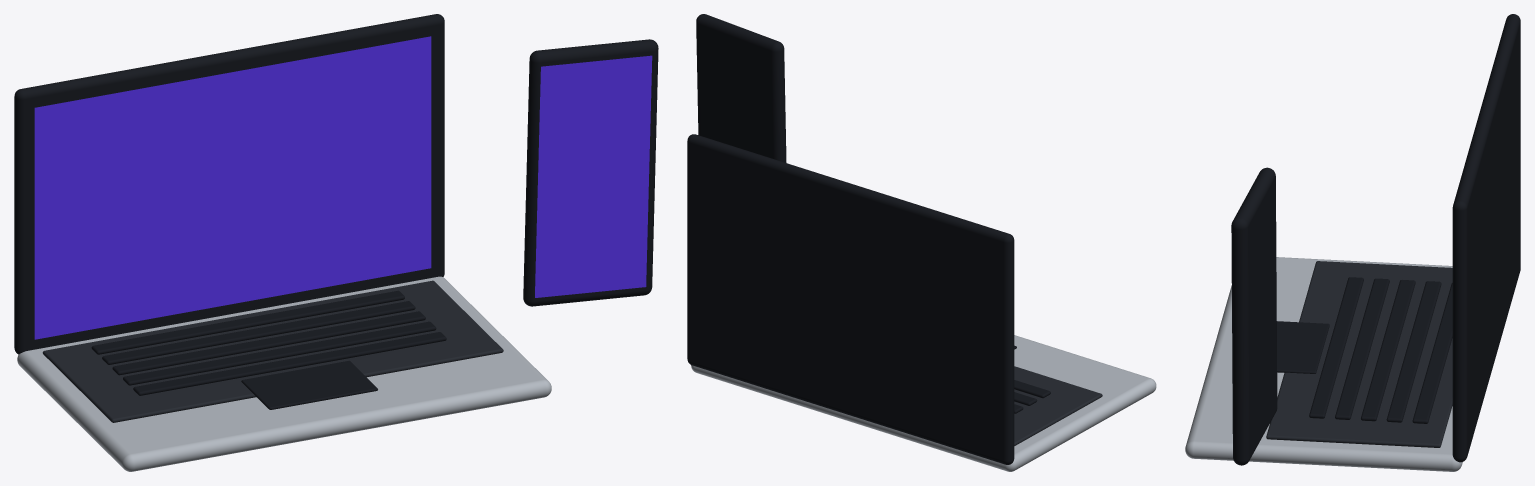
The model's file is device-duo-v1.glb.
The picture shows the model from 3 angles, left to right: view 1: azimuth 30°, elevation 25°; view 2: azimuth 150°, elevation 25°; view 3: azimuth 270°, elevation 25°; orthographic projection. The views are drawn at different scales.
Visible parts, largest first — view 1: LaptopDisplay, LaptopBase, PhoneDisplay, LaptopDisplayBack, KeyboardDeck, PhoneShell, Trackpad, KeyRow_3, KeyRow_4, KeyRow_2, KeyRow_0, KeyRow_1; view 2: LaptopDisplayBack, PhoneShell, LaptopBase, KeyboardDeck; view 3: LaptopDisplayBack, KeyboardDeck, LaptopBase, PhoneShell, Trackpad, KeyRow_1, KeyRow_3, KeyRow_4, KeyRow_2, KeyRow_0.
Boxes of the visible parts, bbox=[...] form: LaptopDisplay: bbox=[34, 36, 431, 339]; LaptopBase: bbox=[17, 276, 551, 471]; PhoneDisplay: bbox=[535, 55, 652, 297]; LaptopDisplayBack: bbox=[14, 14, 444, 354]; KeyboardDeck: bbox=[42, 280, 503, 422]; PhoneShell: bbox=[523, 39, 658, 306]; Trackpad: bbox=[241, 360, 377, 409]; KeyRow_3: bbox=[123, 321, 436, 385]; KeyRow_4: bbox=[133, 332, 446, 395]; KeyRow_2: bbox=[112, 311, 425, 375]; KeyRow_0: bbox=[91, 290, 404, 354]; KeyRow_1: bbox=[102, 301, 415, 364]; LaptopDisplayBack: bbox=[687, 134, 1014, 464]; PhoneShell: bbox=[696, 14, 786, 162]; LaptopBase: bbox=[691, 335, 1156, 471]; KeyboardDeck: bbox=[1014, 366, 1102, 445]; LaptopDisplayBack: bbox=[1452, 14, 1520, 462]; KeyboardDeck: bbox=[1266, 261, 1452, 447]; LaptopBase: bbox=[1185, 257, 1462, 471]; PhoneShell: bbox=[1231, 167, 1277, 465]; Trackpad: bbox=[1276, 321, 1329, 373]; KeyRow_1: bbox=[1386, 281, 1441, 422]; KeyRow_3: bbox=[1335, 278, 1389, 419]; KeyRow_4: bbox=[1309, 277, 1363, 418]; KeyRow_2: bbox=[1361, 280, 1415, 421]; KeyRow_0: bbox=[1412, 283, 1452, 423].
Size of the model in its own units: 4.86 by 2.72 by 2.71.
